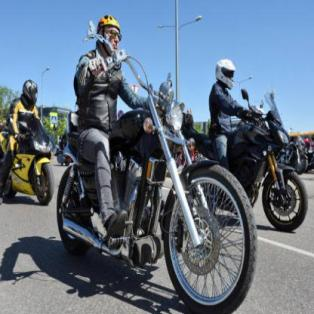Motocicleta: (59, 75, 259, 313), (204, 90, 308, 235), (0, 98, 57, 203)
